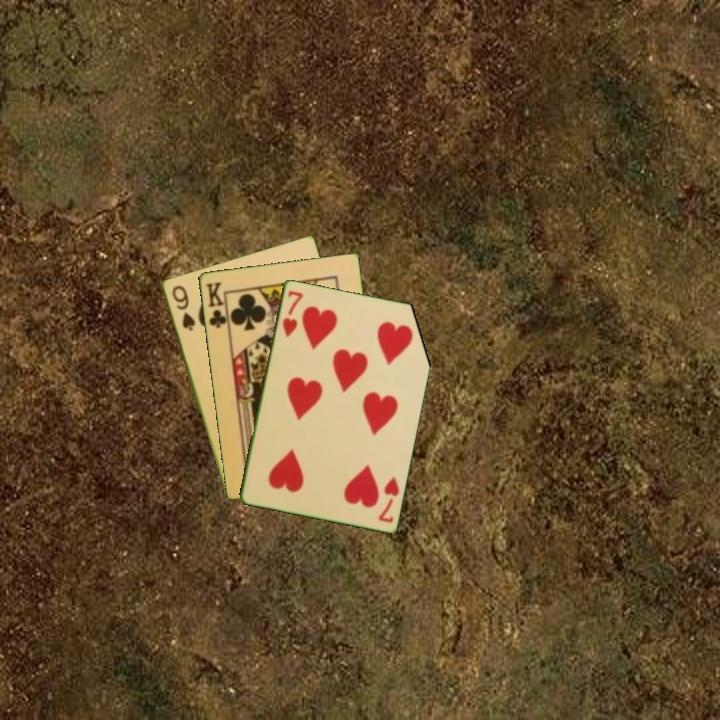7h: (278, 287, 306, 340), (375, 473, 402, 525)
9s: (168, 281, 198, 334)
Kc: (203, 278, 231, 332)
